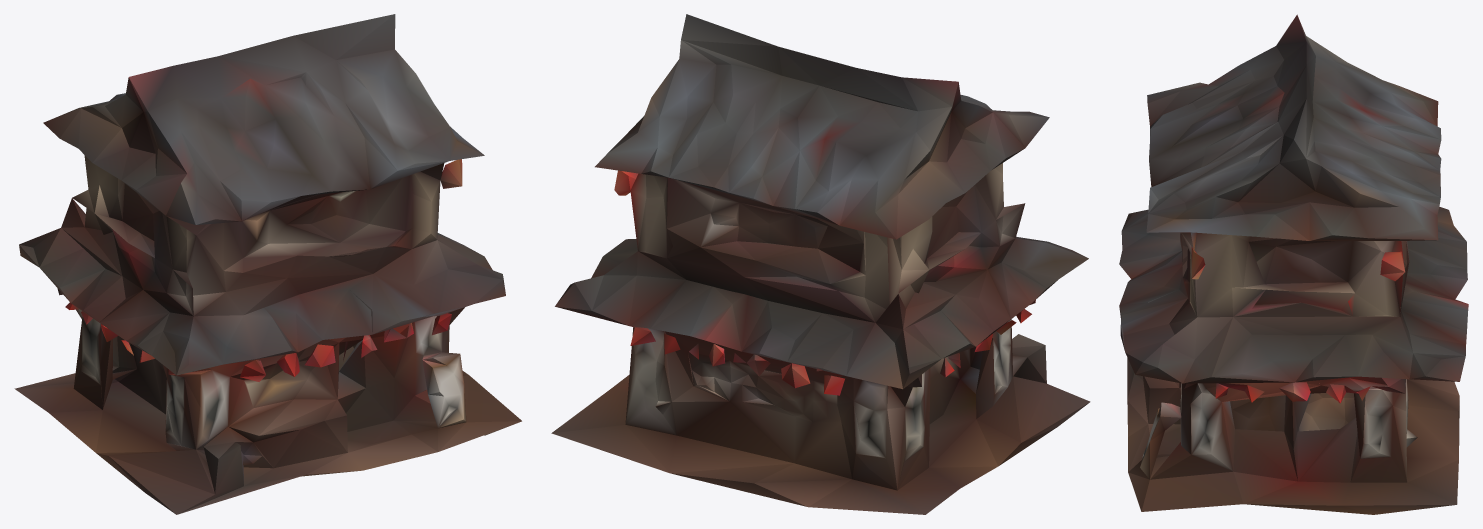
Rendered from bq_shop_lantern.vc2.glb.
The picture shows the model from 3 angles, left to right: view 1: azimuth 30°, elevation 25°; view 2: azimuth 150°, elevation 25°; view 3: azimuth 270°, elevation 25°; orthographic projection. The views are drawn at different scales.
Parts seen in each view (by area): view 1: bq_shop_lantern; view 2: bq_shop_lantern; view 3: bq_shop_lantern.
Part boxes in pixels (x1=…): bq_shop_lantern: x1=14, y1=14, x2=521, y2=514; bq_shop_lantern: x1=551, y1=14, x2=1090, y2=514; bq_shop_lantern: x1=1119, y1=14, x2=1468, y2=514.
Size of the model in its own units: 1.99 by 1.96 by 1.76.
